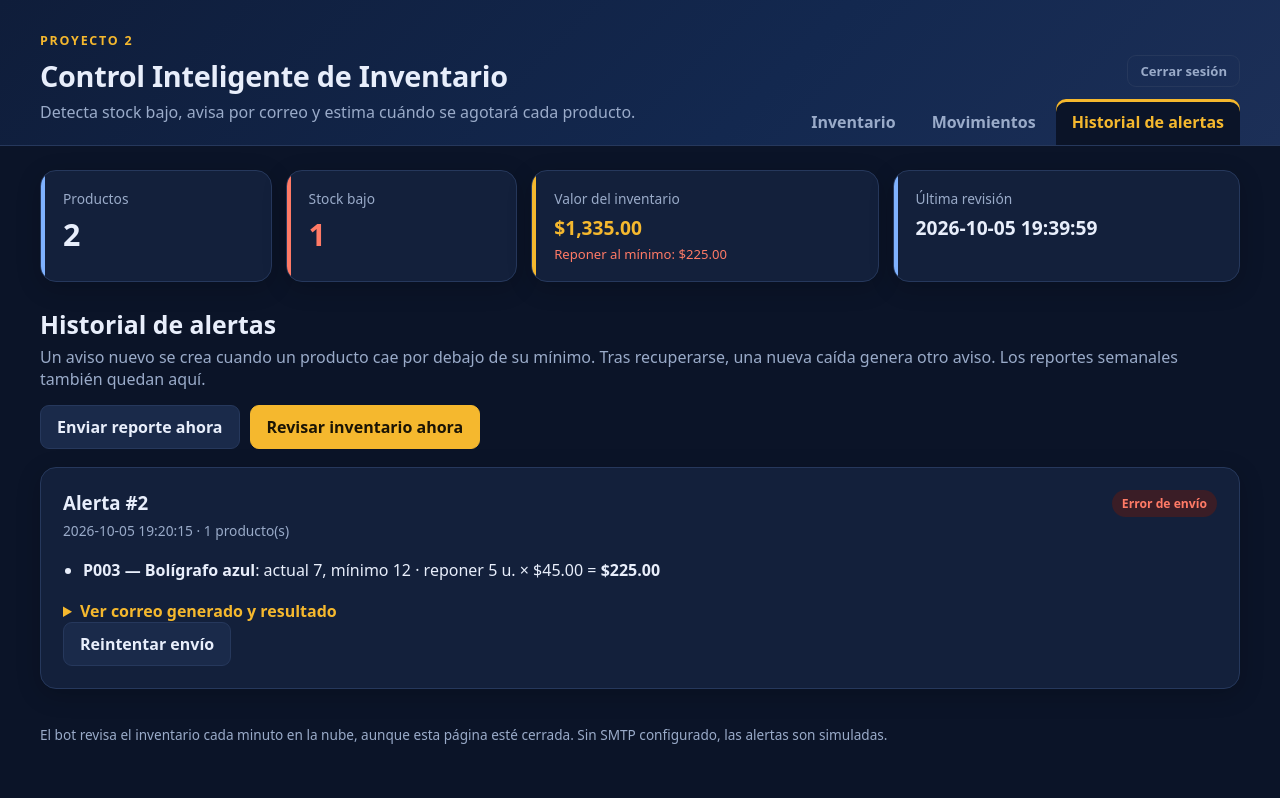
Test case: Historial de alertas › una alerta con error muestra el motivo y se puede reintentar
Expected: the text "Error de envío" is shown, [1112, 490, 1217, 517]
Click the button "Reintentar envío" at x=147, y=644, box [63, 622, 231, 666]
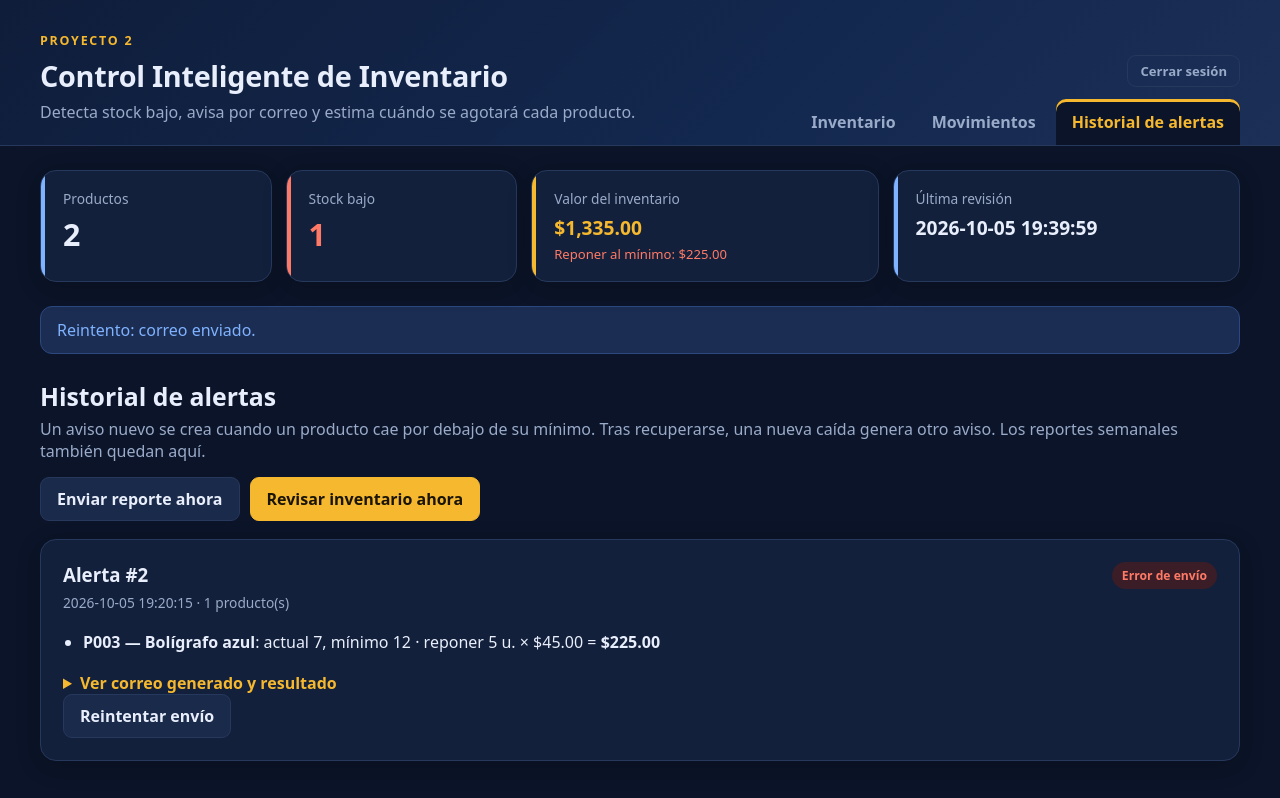
Expected: the text "Reintento: correo enviado." is shown, [40, 306, 1240, 354]
